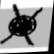not correct: (0, 1, 45, 51)
